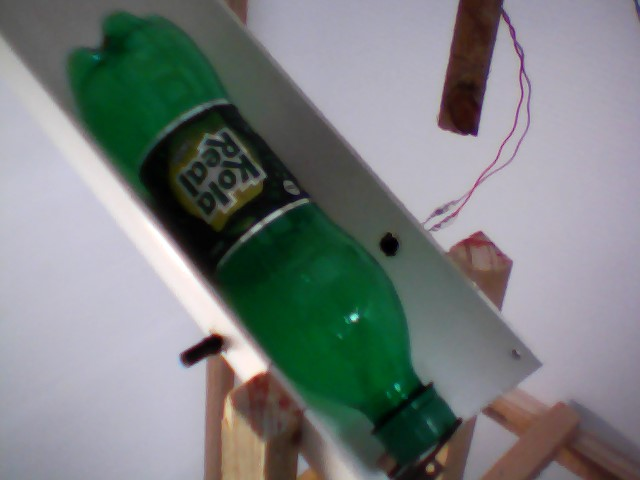plastico: (50, 5, 466, 469)
